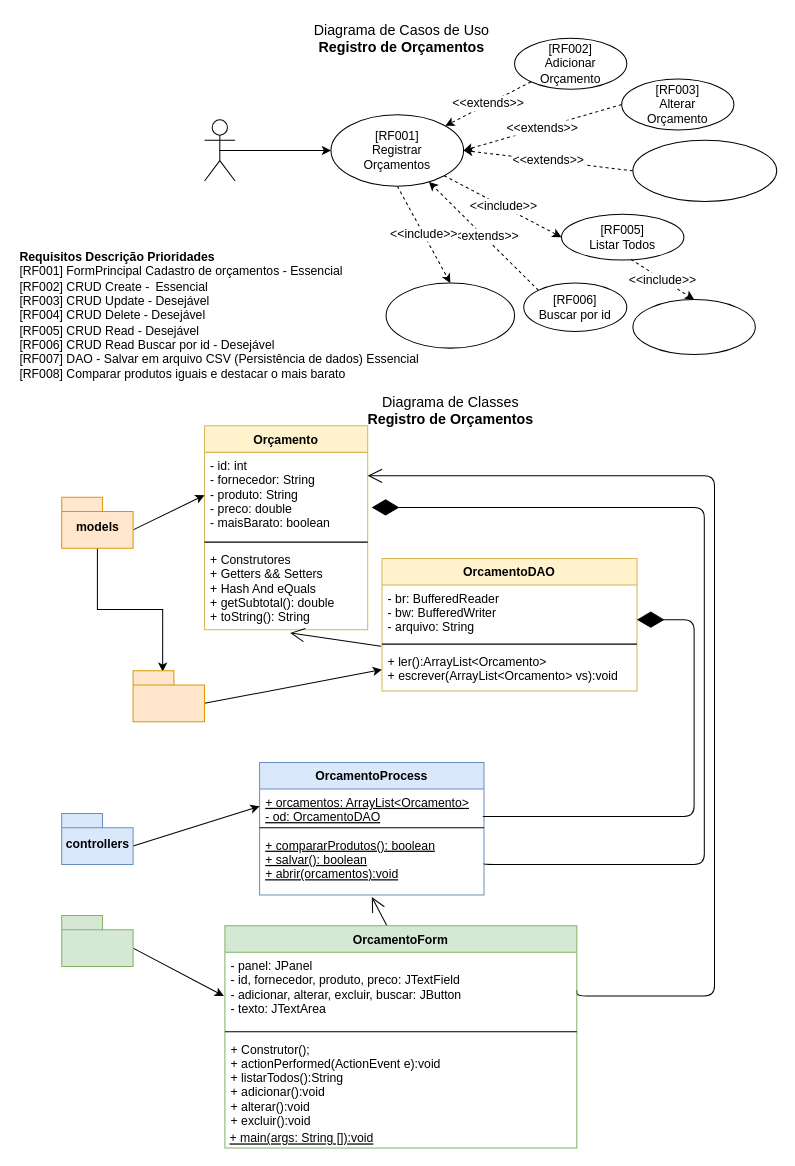
Some shapes in this 795 by 1166 pixel diagram are drawn without their labels. The centre of each missing label's shape, as x and y in pixels:
[RF004] Excluir Orçamento: the point at 704,170
[RF007] Salvar alterações em arquivo CSV: the point at 450,315
[RF008] Comparar produtos iguais: the point at 693,326
Comprador: the point at 219,150
dao: the point at 168,696
viewers: the point at 97,940
